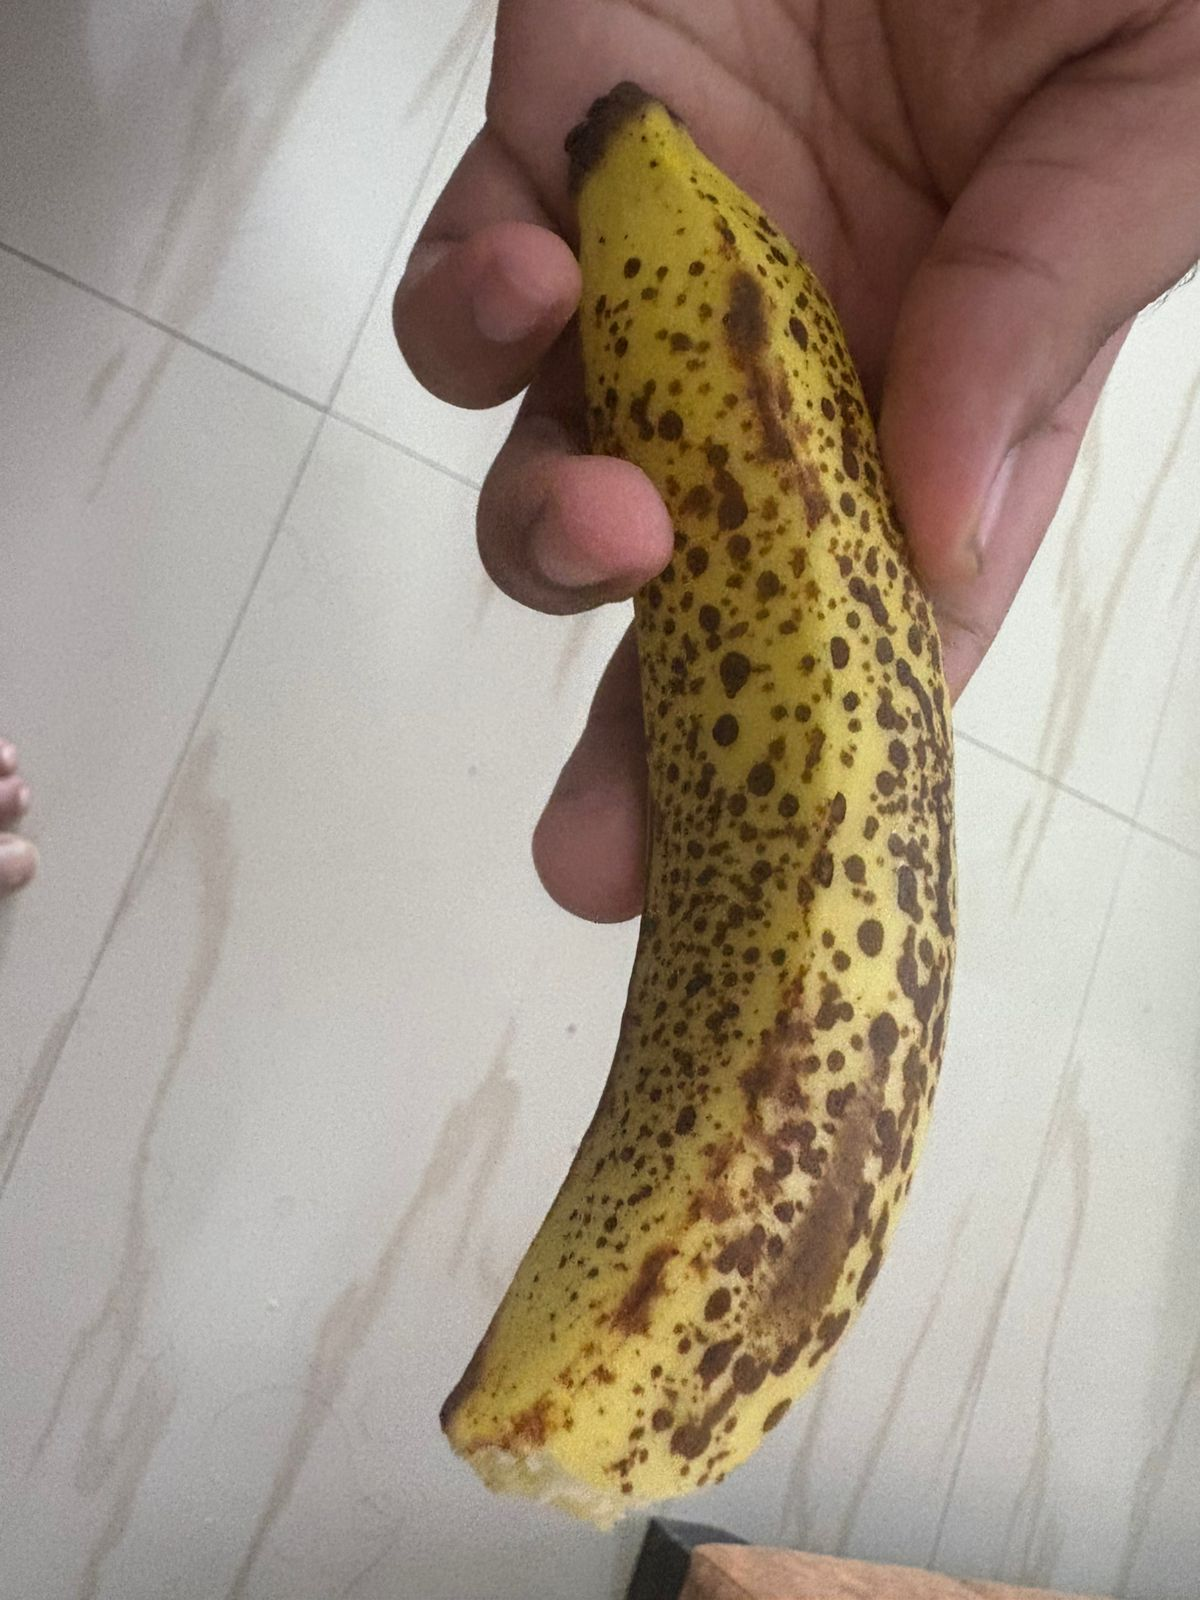wet: (432, 129, 923, 1514)
